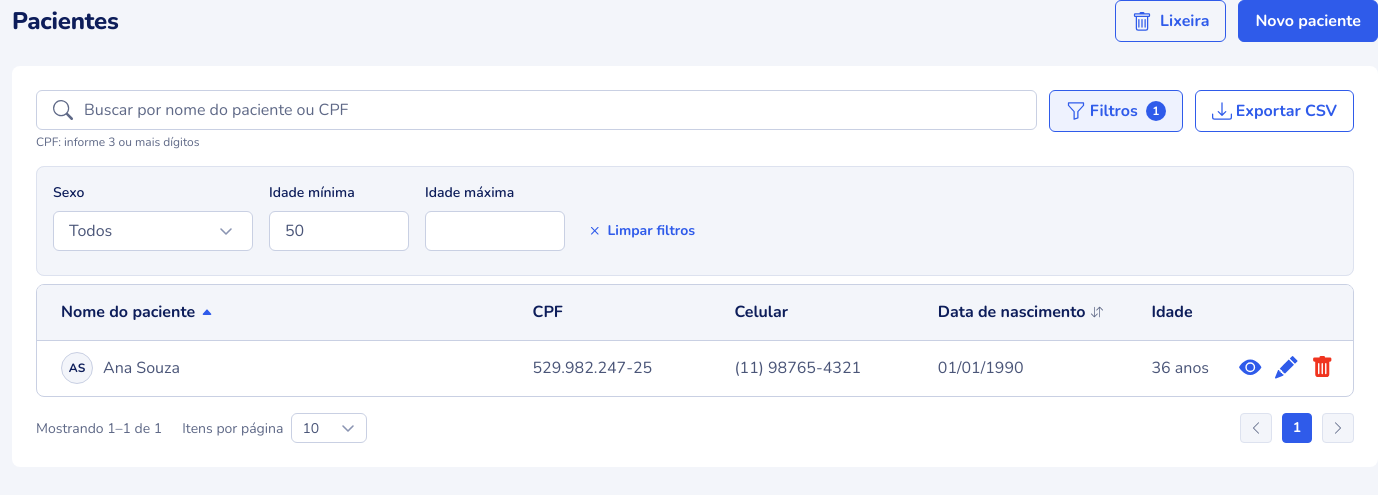
Test case: PatientListView filters and export › does not push an invalid range
Type "20" into the number field with id "filter-age-max" at (495, 231), box [425,211,565,251]
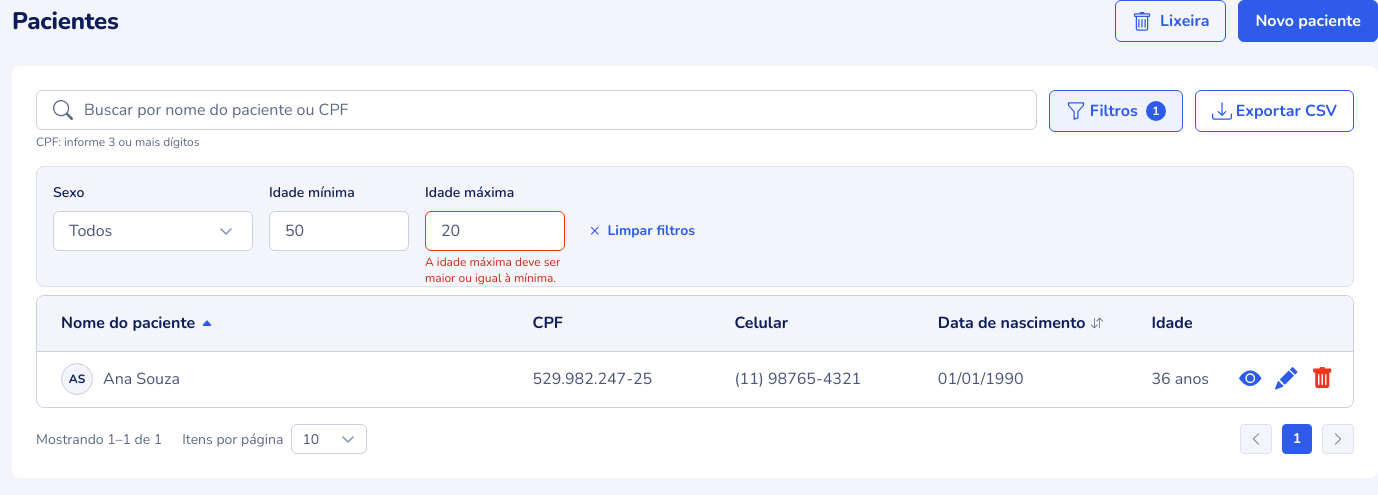
Expected: the text "A idade máxima deve ser maior ou igual à mínima." is shown, [425,254,565,286]
